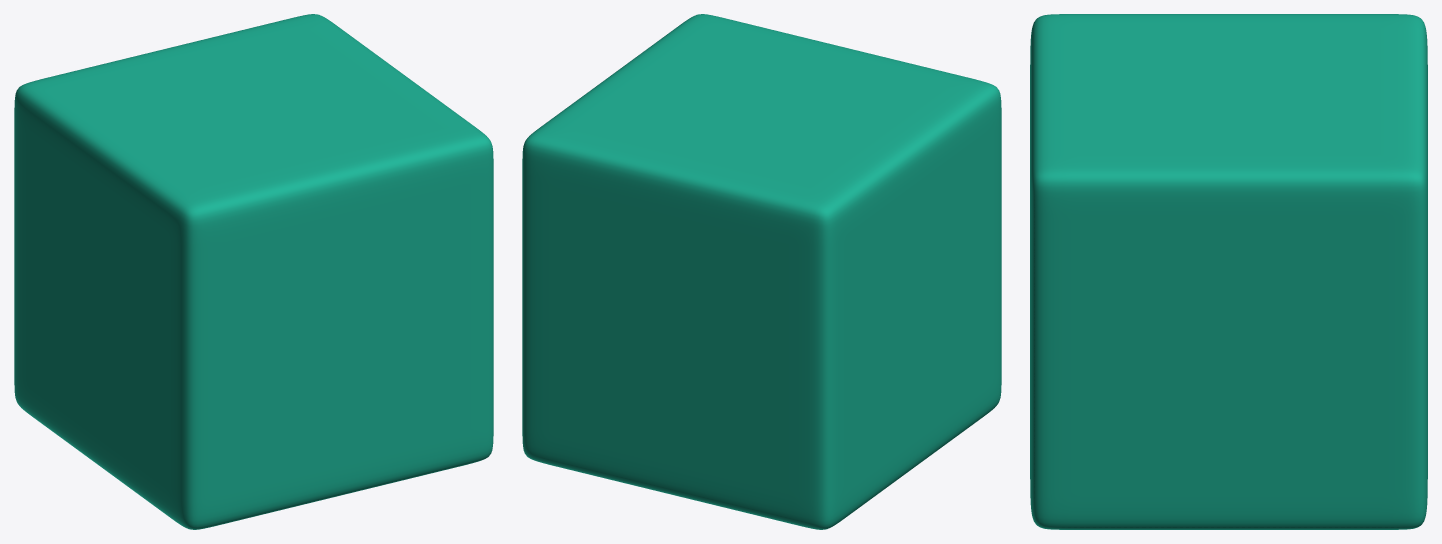
The model's file is testModel.obj.
The picture shows the model from 3 angles, left to right: view 1: azimuth 30°, elevation 25°; view 2: azimuth 150°, elevation 25°; view 3: azimuth 270°, elevation 25°; orthographic projection. The views are drawn at different scales.
Visible parts, largest first — view 1: Box001; view 2: Box001; view 3: Box001.
Part boxes in pixels (left/top/right/bottom): Box001: left=14, top=14, right=493, bottom=529; Box001: left=522, top=14, right=1001, bottom=529; Box001: left=1030, top=14, right=1427, bottom=529.
Bounding box in the file's own units: 2.66 × 2.66 × 2.66.
